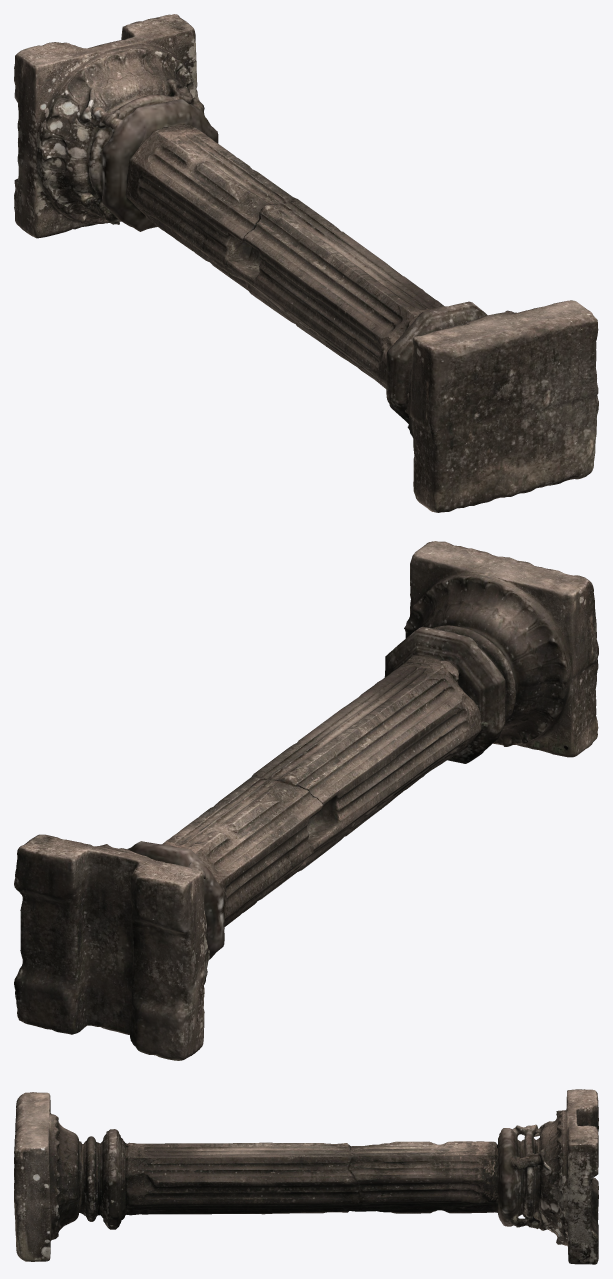
Rendered from 37_MysonSanctuaryB_Trucot_final.glb.
3 views of the same model, one above another, from view 1: azimuth 30°, elevation 25°; view 2: azimuth 150°, elevation 25°; view 3: azimuth 270°, elevation 25° (orthographic). The views are drawn at different scales.
Bounding box in the file's own units: 1.02 × 0.9689 × 4.19.
Materials: 1 (1 with a texture image).
